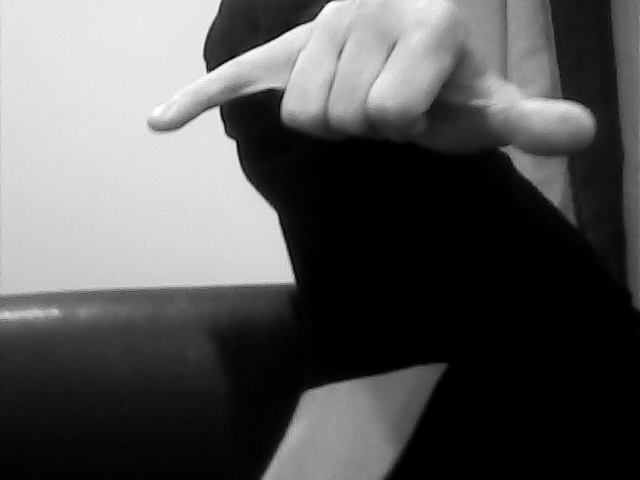aloha: (141, 1, 622, 158)
